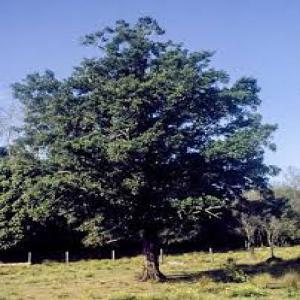Tree: (9, 14, 278, 281)
